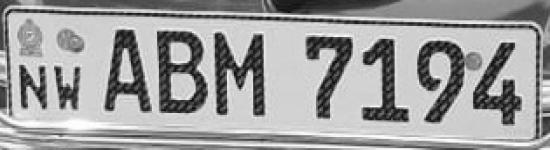1: (356, 30, 414, 134)
4: (472, 38, 527, 134)
7: (300, 26, 356, 127)
9: (414, 35, 471, 129)
A: (98, 23, 156, 121)
B: (155, 23, 211, 122)
M: (211, 28, 271, 126)
N: (14, 61, 51, 114)
W: (50, 60, 86, 115)
